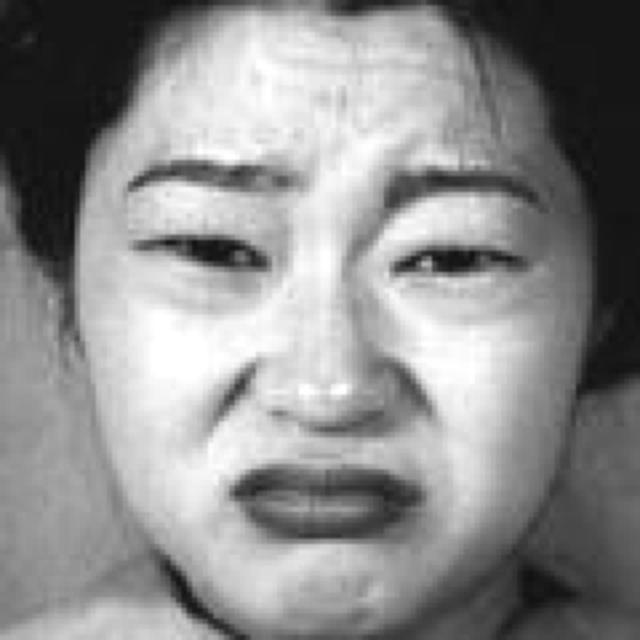disgust: (76, 65, 569, 615)
